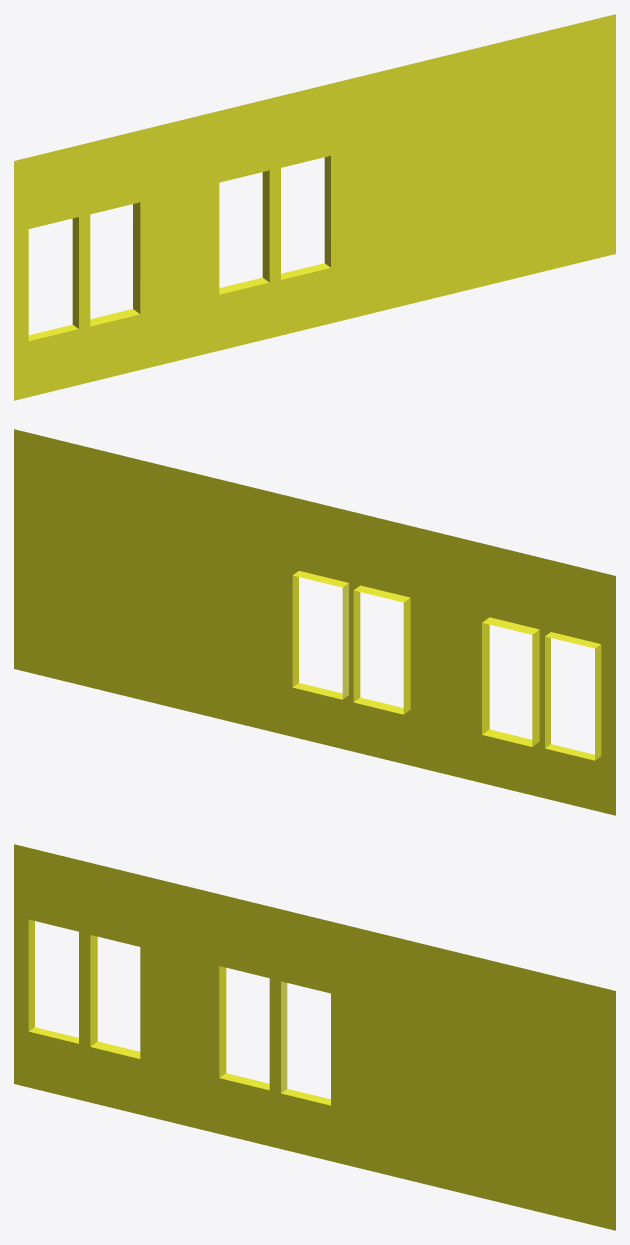
File: wall.dae
The picture shows the model from 3 angles, top to bottom: view 1: azimuth 30°, elevation 25°; view 2: azimuth 150°, elevation 25°; view 3: azimuth 330°, elevation 25°; orthographic projection.
Parts seen in each view (by area): view 1: SketchUp (×5); view 2: SketchUp (×6); view 3: SketchUp (×5).
Part boxes in pixels (<box>): SketchUp (×5): <box>14,14,615,400</box>; SketchUp (×6): <box>14,429,615,815</box>; SketchUp (×5): <box>14,844,615,1230</box>.
Size of the model in its own units: 6981 by 150 by 2657.
